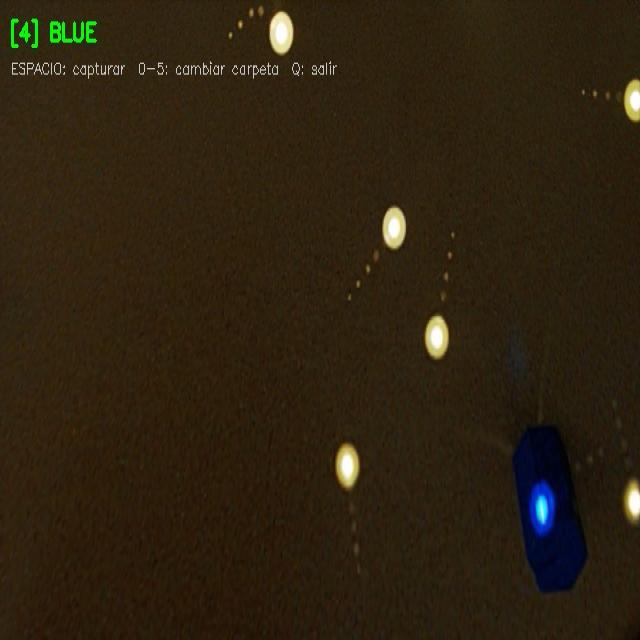blue: (511, 416, 583, 596)
